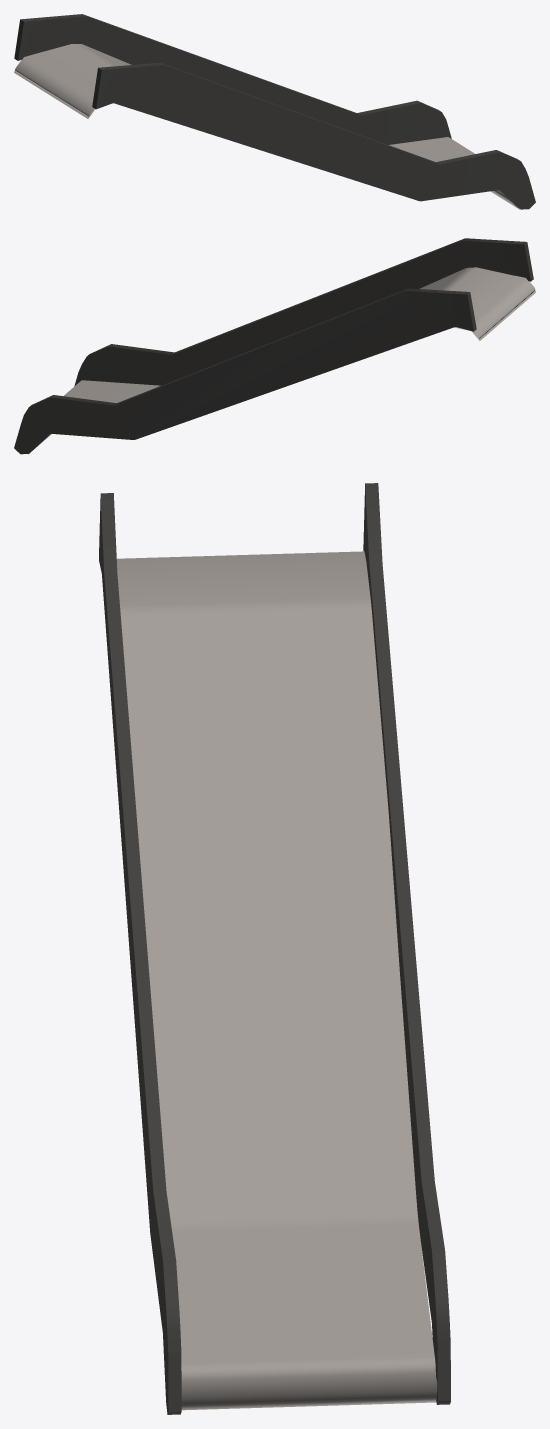
File: PlaygroundSet_Slide.fbx
3 renders of one model, top to bottom at view 1: azimuth 30°, elevation 25°; view 2: azimuth 150°, elevation 25°; view 3: azimuth 270°, elevation 25°, orthographic. The views are drawn at different scales.
Visible parts, largest first — view 1: PlaygroundSet_Slide; view 2: PlaygroundSet_Slide; view 3: PlaygroundSet_Slide.
Boxes of the visible parts, <box> form: PlaygroundSet_Slide: <box>14,14,535,209</box>; PlaygroundSet_Slide: <box>14,238,535,454</box>; PlaygroundSet_Slide: <box>99,483,450,1414</box>.
Bounding box in the file's own units: 196 × 104 × 65.62.
